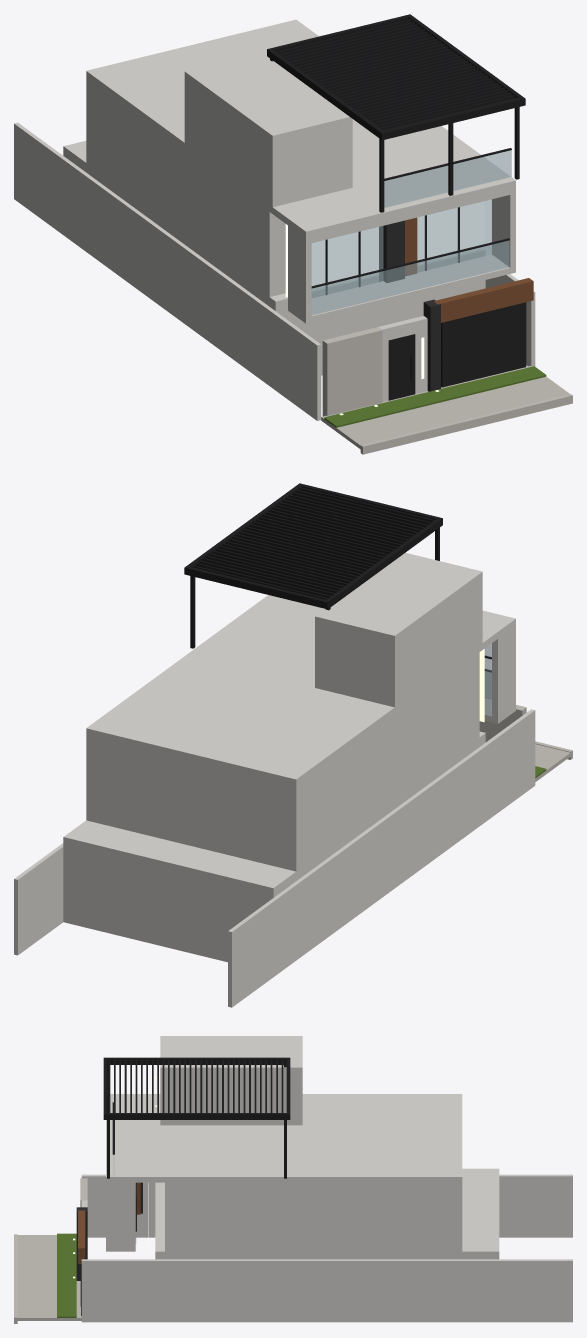
File: prototipo-1.glb
3 renders of one model, top to bottom at view 1: azimuth 30°, elevation 25°; view 2: azimuth 150°, elevation 25°; view 3: azimuth 270°, elevation 25°, orthographic. The views are drawn at different scales.
Parts seen in each view (by area): view 1: prototipo-1; view 2: prototipo-1; view 3: prototipo-1.
Part boxes in pixels (x1,y1,x2,y2): prototipo-1: [14, 14, 572, 454]; prototipo-1: [14, 483, 572, 1007]; prototipo-1: [14, 1036, 572, 1323].
Bounding box in the file's own units: 8.45 × 9.55 × 22.75.
